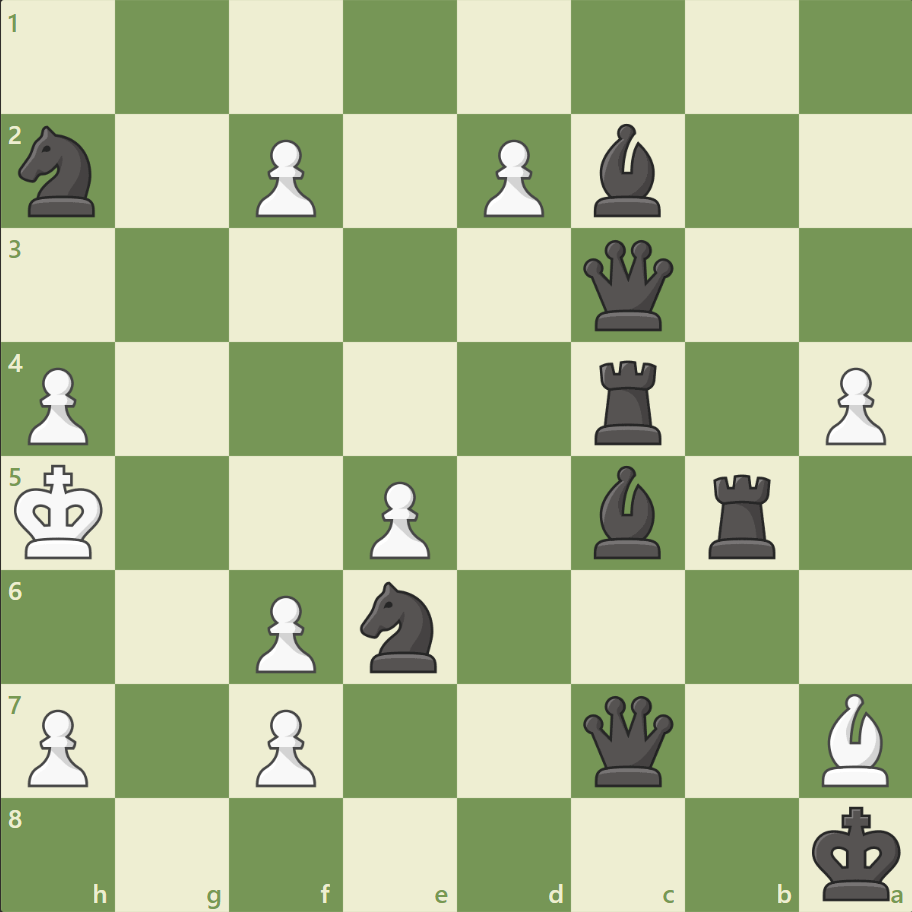B: (812, 687, 896, 790)
K: (11, 458, 111, 566)
P: (247, 700, 322, 791), (20, 700, 95, 791), (247, 586, 322, 677), (20, 359, 95, 450), (474, 132, 549, 223), (247, 132, 322, 223), (361, 473, 435, 564), (815, 359, 889, 450)
b: (585, 460, 669, 563), (585, 120, 669, 222)
k: (806, 798, 906, 906)
n: (351, 575, 449, 677), (11, 121, 108, 223)
q: (578, 690, 677, 789), (578, 236, 677, 335)
r: (700, 466, 783, 563), (587, 352, 670, 449)
